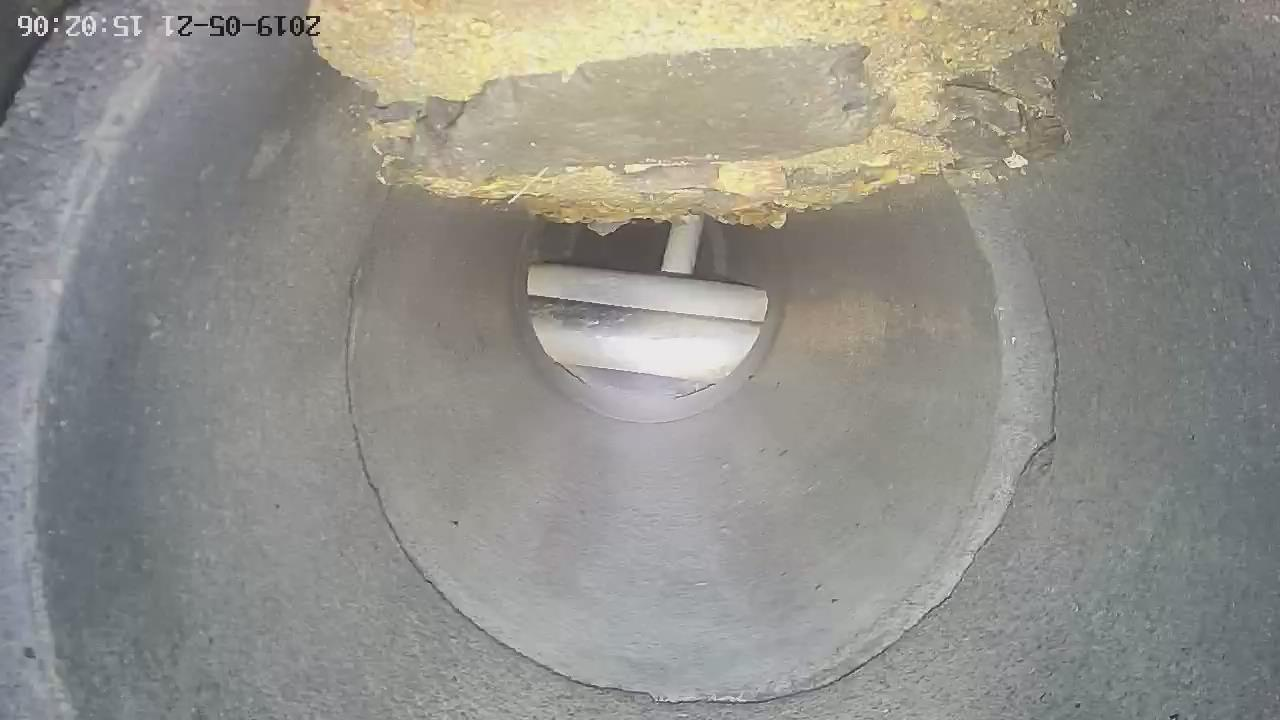CJ: (316, 1, 1073, 235)
CKTJ: (335, 150, 1063, 712)
YWCR: (527, 217, 769, 383)
